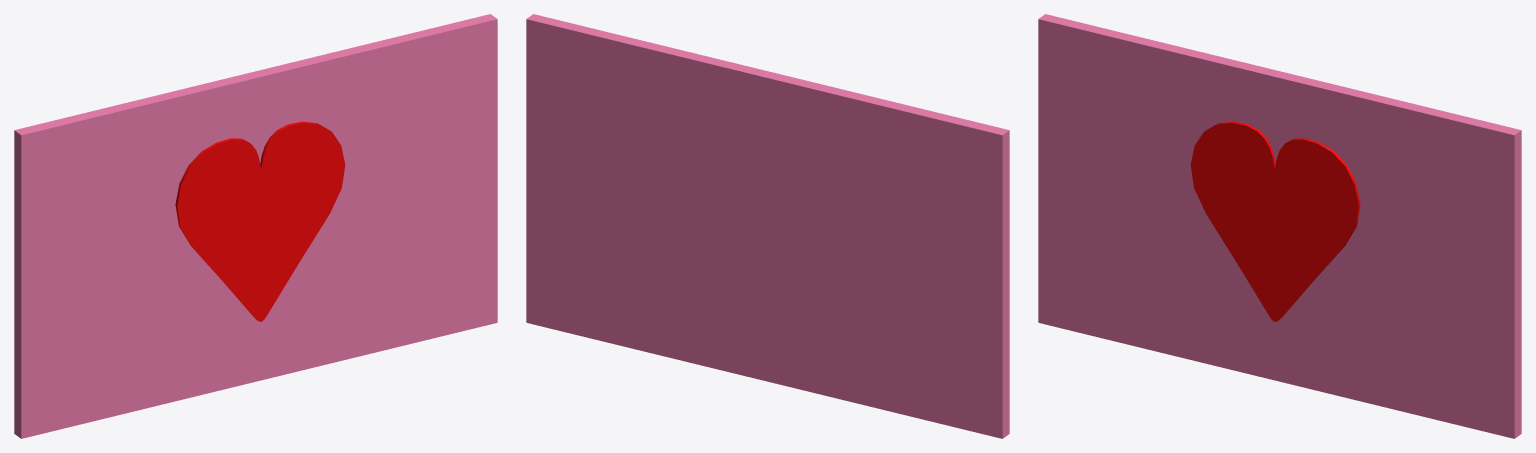
The model's file is f84bc186-dbd2-4442-9231-9817b3889f33.glb.
The picture shows the model from 3 angles, left to right: view 1: azimuth 30°, elevation 25°; view 2: azimuth 150°, elevation 25°; view 3: azimuth 330°, elevation 25°; orthographic projection.
Parts seen in each view (by area): view 1: ValentinesCardPink; view 2: ValentinesCardPink; view 3: ValentinesCardPink.
Boxes of the visible parts, x1,y1,x2,y2 form: ValentinesCardPink: (14,14,497,438); ValentinesCardPink: (526,14,1009,438); ValentinesCardPink: (1038,14,1521,438).
Size of what is drawn, in the model's own units: 0.26 by 0.1584 by 0.00833.
1 material, 1 textured.
